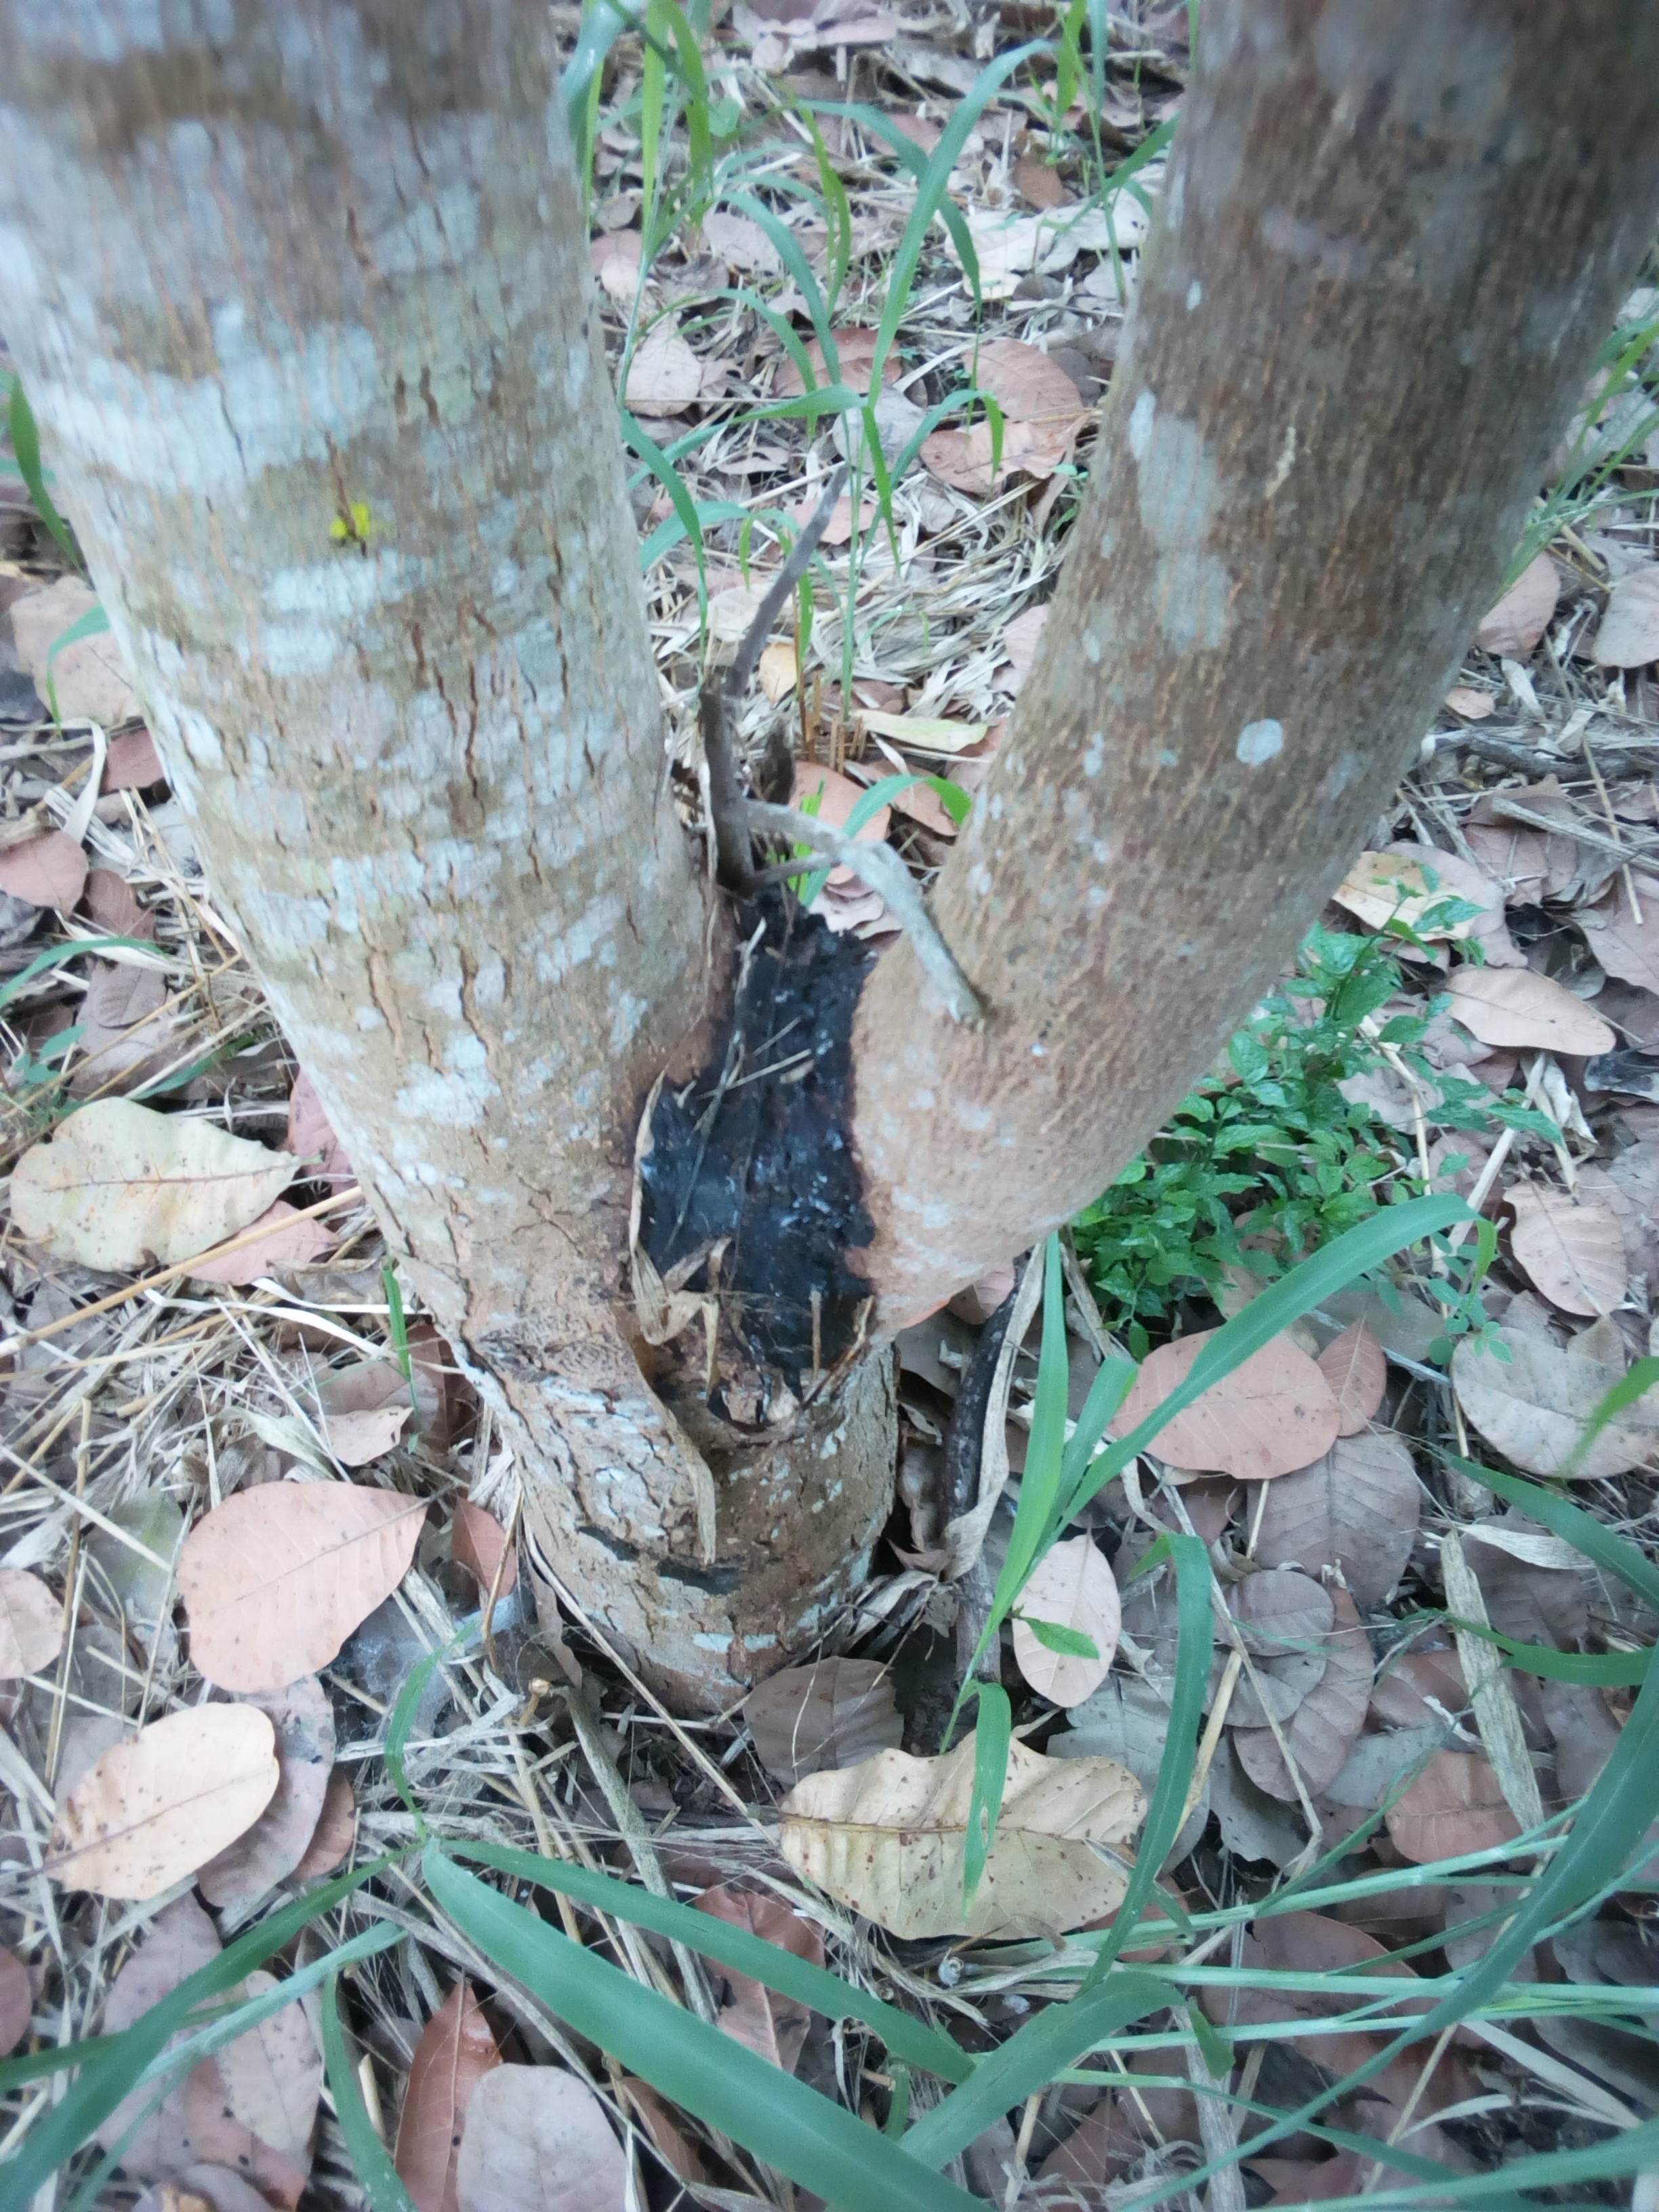Mecocorynus longiceps: (633, 827, 924, 1414)
